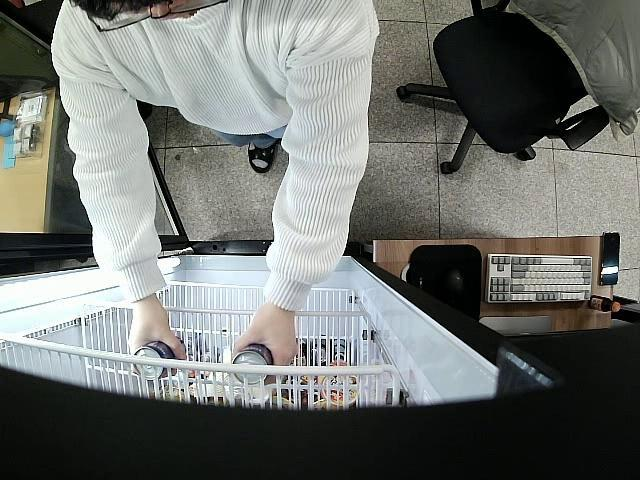16_hot6: (132, 340, 187, 382), (232, 343, 274, 387)
